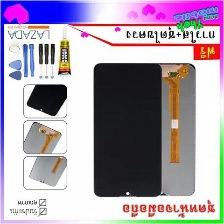phone: (90, 61, 165, 198), (130, 61, 196, 198)
